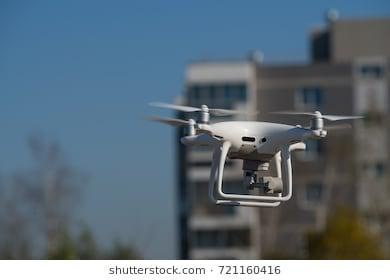drone: (129, 77, 375, 217)
